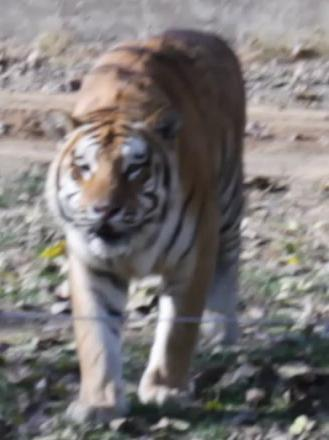tiger: (46, 29, 245, 418)
